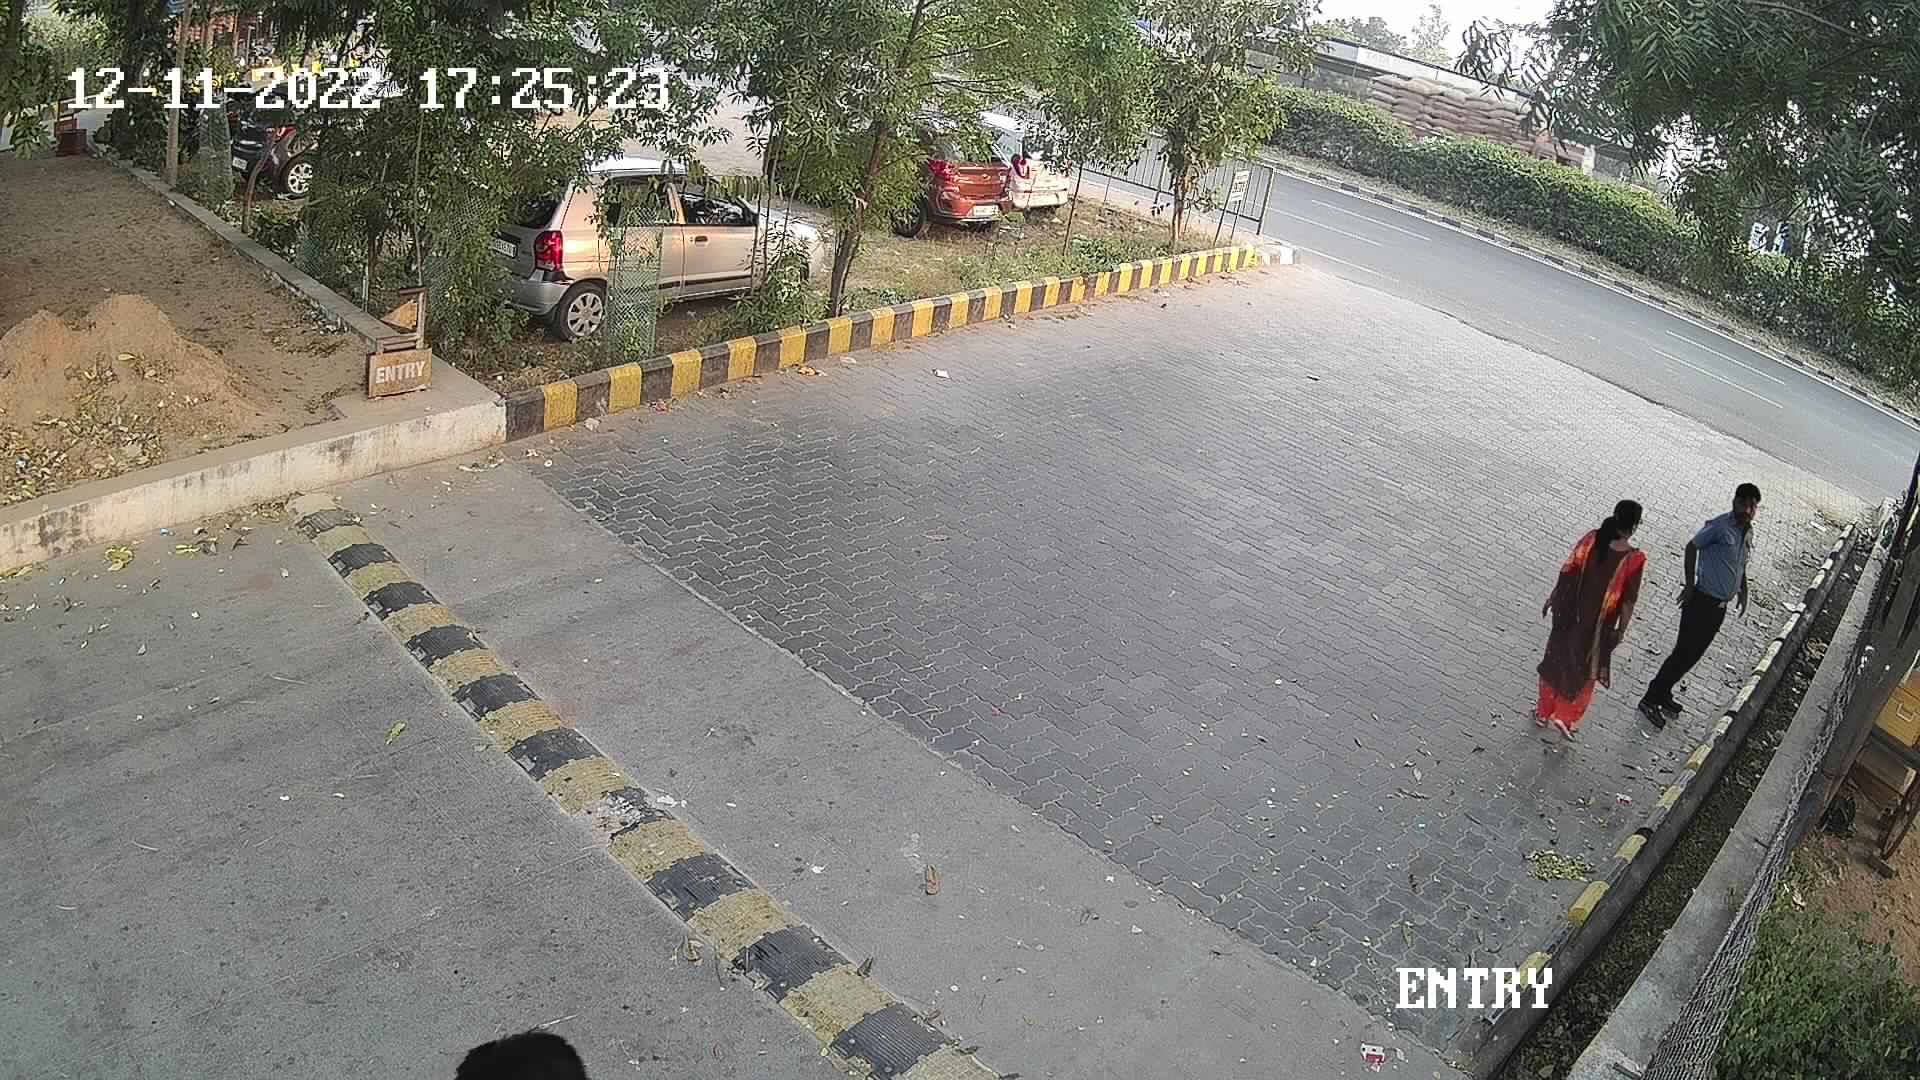Car: (531, 124, 804, 334), (864, 105, 1014, 243), (968, 105, 1079, 222)
